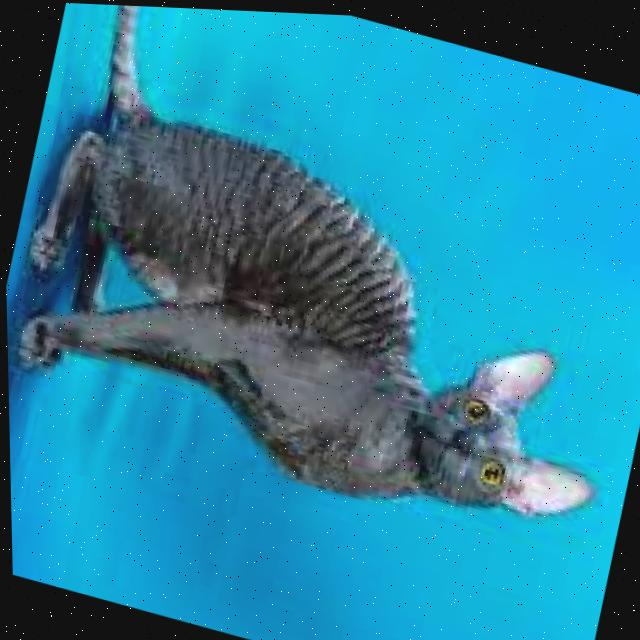Cornish Rex: (0, 0, 640, 567)
